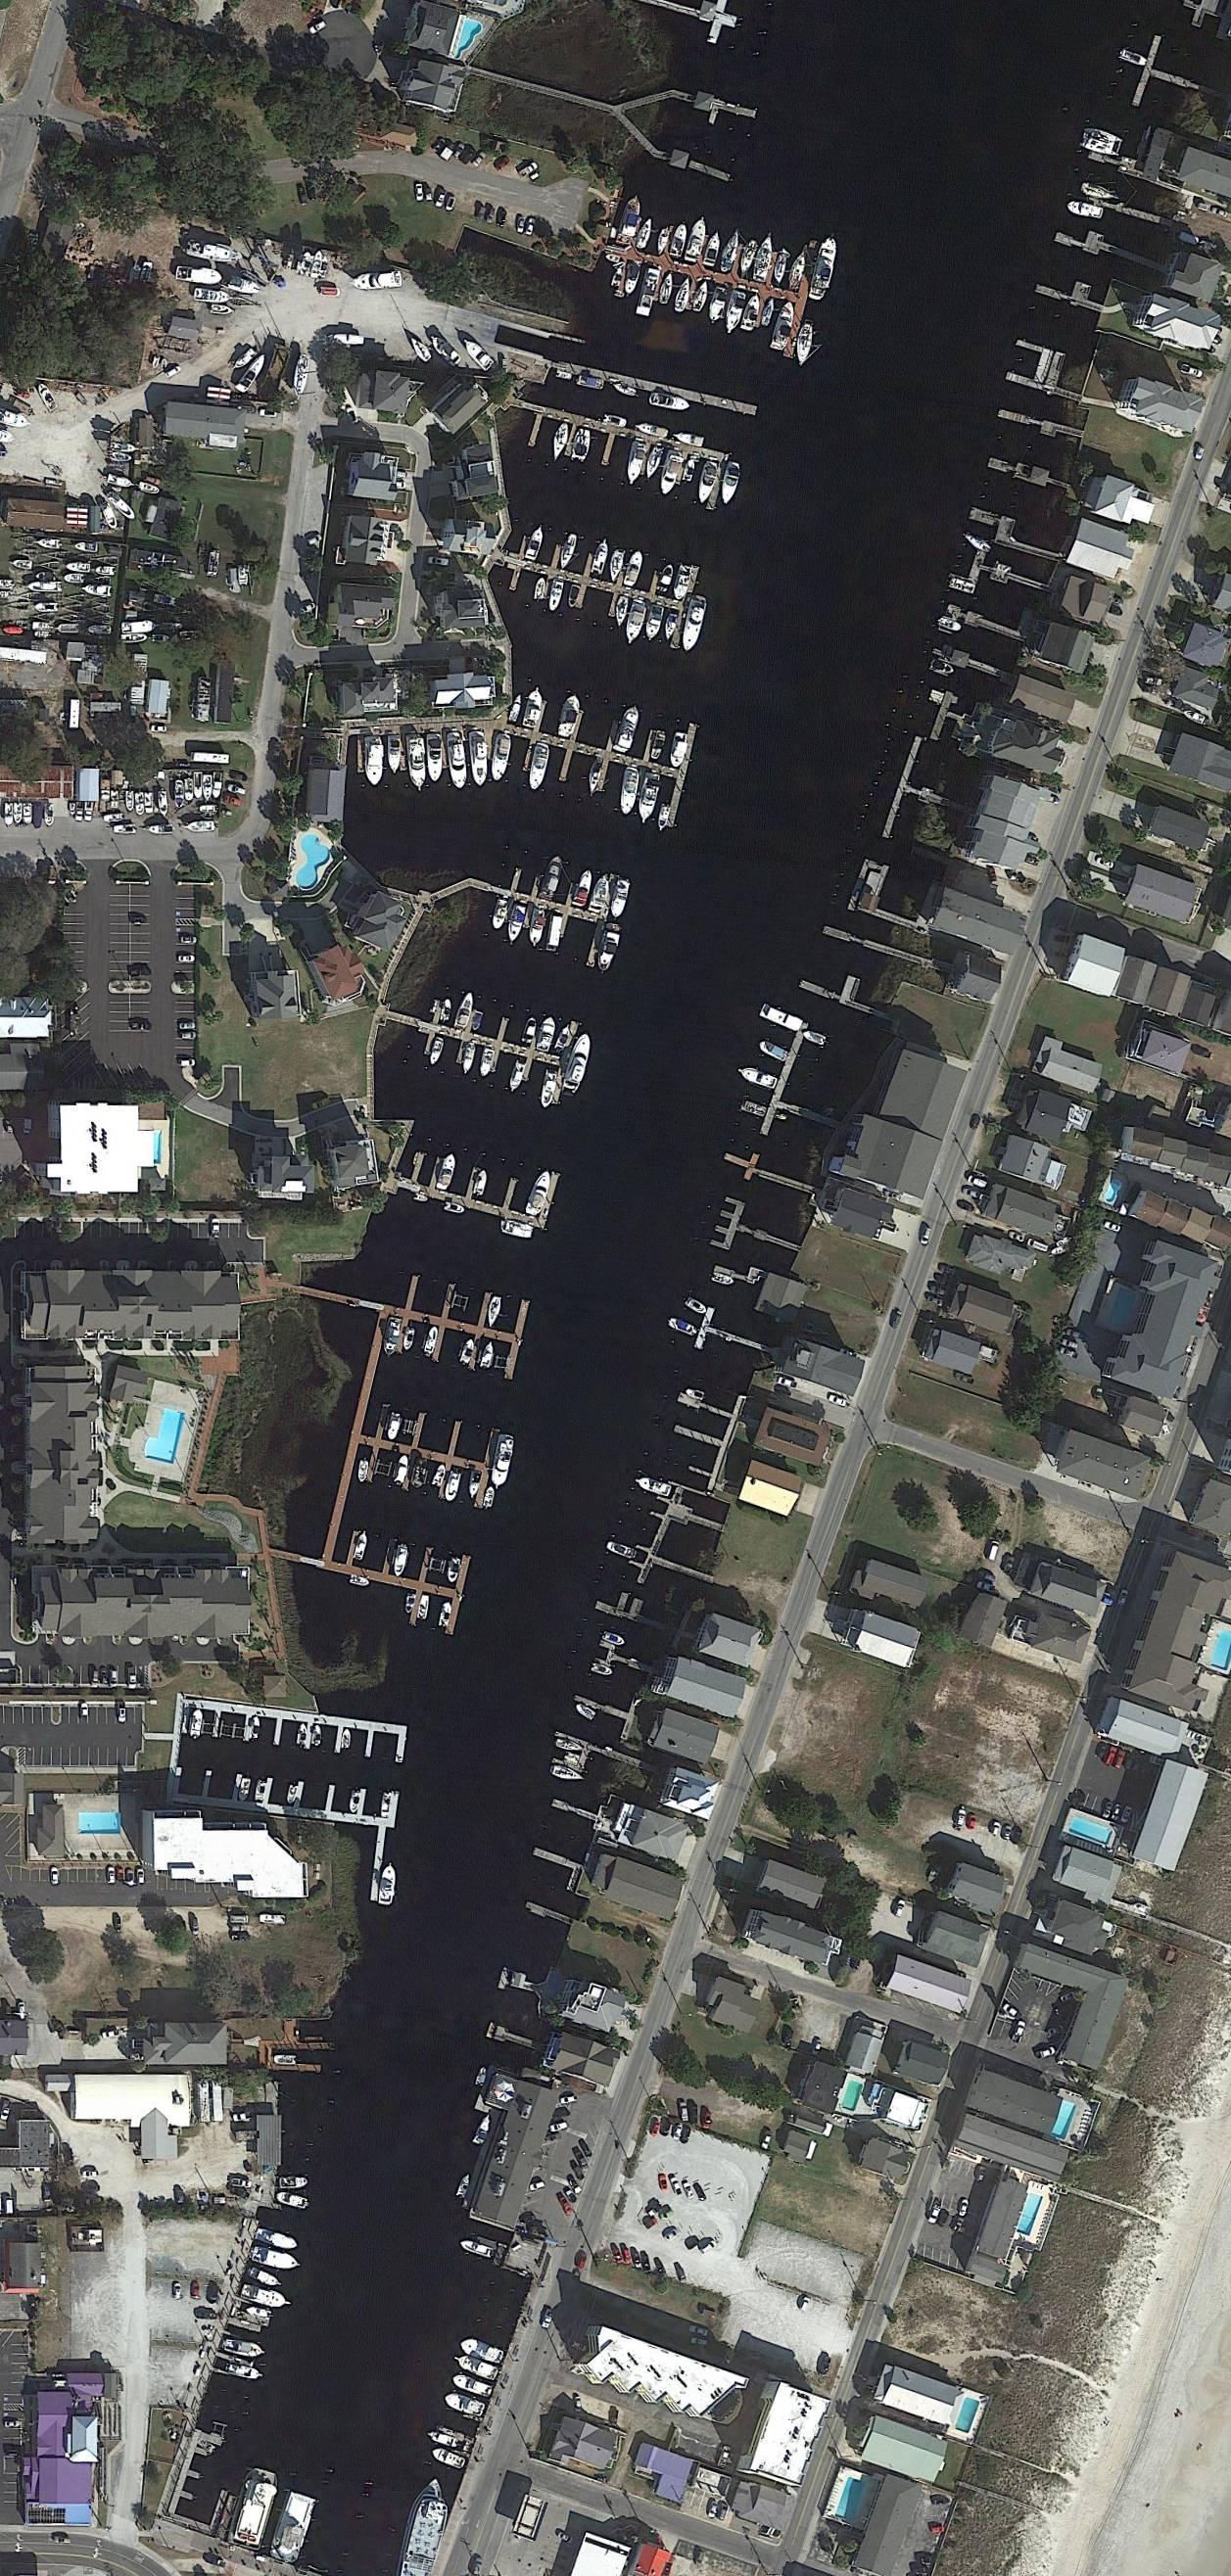harbor: (462, 39, 759, 186), (588, 189, 823, 360), (491, 677, 698, 828), (505, 396, 731, 513), (496, 521, 700, 651), (404, 981, 582, 1104), (452, 838, 620, 966), (317, 1525, 472, 1635), (350, 1398, 501, 1508), (381, 1270, 531, 1380), (202, 2218, 299, 2380), (399, 1134, 560, 1230), (182, 1697, 408, 1763), (171, 1766, 399, 1830), (643, 1372, 748, 1497), (549, 358, 758, 417), (1131, 34, 1229, 141), (590, 1574, 707, 1656), (355, 720, 496, 772), (846, 856, 938, 935), (542, 1727, 652, 1792), (948, 540, 1052, 610), (694, 1304, 784, 1378), (623, 1480, 687, 1584), (1053, 220, 1162, 278), (758, 1020, 810, 1139), (718, 1142, 820, 1203), (966, 506, 1070, 563), (166, 2428, 225, 2527), (1004, 338, 1095, 402), (799, 961, 892, 1022), (881, 734, 924, 841), (823, 925, 922, 966), (1088, 146, 1173, 191), (986, 453, 1072, 495), (945, 603, 1024, 644), (1035, 271, 1108, 315), (1085, 194, 1172, 230), (998, 409, 1085, 445), (932, 642, 1007, 683), (524, 1845, 585, 1894), (930, 690, 978, 751), (592, 1640, 656, 1682), (486, 2021, 551, 2058), (708, 1196, 748, 1252), (265, 2040, 334, 2070), (713, 1253, 769, 1290), (498, 1965, 549, 2001), (574, 1692, 631, 1722), (524, 1899, 575, 1927), (370, 1825, 388, 1901), (551, 1797, 598, 1824), (470, 2236, 508, 2267)
ship: (805, 233, 841, 306), (560, 1032, 593, 1097), (675, 593, 710, 655), (186, 237, 247, 266), (486, 1434, 518, 1490), (233, 350, 270, 396), (523, 1166, 554, 1219), (240, 2282, 291, 2313), (769, 299, 797, 353), (593, 922, 621, 976), (524, 741, 554, 792), (459, 2334, 506, 2366), (634, 772, 662, 825), (620, 598, 649, 647), (554, 695, 585, 741), (104, 486, 141, 524), (460, 333, 496, 373), (615, 195, 643, 246), (251, 2246, 302, 2274), (486, 733, 514, 784), (467, 731, 491, 789), (611, 706, 641, 754), (445, 731, 468, 792), (736, 1061, 781, 1092), (656, 450, 684, 498), (537, 854, 565, 902), (615, 767, 643, 815), (427, 330, 463, 366), (217, 271, 263, 299), (692, 460, 720, 506), (454, 2354, 500, 2382), (406, 734, 427, 793), (442, 2390, 486, 2418), (684, 217, 708, 266), (176, 263, 225, 287), (722, 289, 748, 335), (519, 687, 546, 733), (623, 440, 649, 486), (253, 2226, 299, 2252), (350, 269, 406, 291), (452, 2371, 495, 2399), (717, 462, 743, 506), (1080, 179, 1121, 207), (786, 246, 810, 292), (718, 230, 743, 274), (753, 235, 774, 284), (547, 422, 572, 465), (587, 872, 611, 915), (363, 736, 383, 789), (534, 1014, 559, 1055), (649, 391, 692, 414), (380, 1316, 403, 1359), (643, 605, 667, 644), (621, 550, 646, 590), (570, 867, 595, 907), (551, 1761, 587, 1787), (224, 2338, 268, 2359), (740, 292, 763, 333), (526, 907, 549, 948), (505, 904, 528, 945), (583, 757, 606, 798), (291, 353, 311, 401), (634, 1474, 672, 1498), (707, 286, 730, 325), (1065, 199, 1104, 222), (454, 992, 477, 1032), (436, 1152, 459, 1191), (431, 2446, 467, 2471), (248, 2267, 284, 2292), (192, 286, 233, 307), (537, 1068, 559, 1109), (608, 879, 629, 920), (376, 1863, 396, 1907), (671, 278, 694, 315), (671, 565, 694, 603), (33, 379, 59, 412), (225, 2361, 265, 2382), (426, 733, 442, 784), (689, 279, 712, 315), (556, 534, 579, 570), (523, 526, 546, 562), (273, 2188, 309, 2211), (228, 345, 258, 373), (406, 333, 432, 365), (738, 238, 758, 279), (621, 261, 643, 299), (546, 578, 567, 616), (667, 733, 689, 771), (795, 322, 814, 366), (608, 595, 631, 629), (669, 222, 690, 258), (634, 215, 656, 251), (643, 445, 664, 481), (758, 1038, 789, 1063), (460, 2238, 493, 2261), (590, 540, 610, 578), (508, 1058, 529, 1092), (391, 1452, 413, 1487), (554, 1735, 585, 1758), (657, 271, 677, 307), (703, 232, 723, 268), (633, 421, 669, 440), (606, 549, 626, 585), (442, 1469, 463, 1502), (672, 430, 707, 450), (350, 1529, 371, 1561), (490, 899, 509, 931), (519, 1015, 539, 1048), (459, 1042, 478, 1074), (99, 501, 120, 531), (477, 1046, 496, 1078), (81, 582, 113, 600), (422, 1324, 440, 1357), (386, 734, 401, 774), (427, 1037, 447, 1066), (486, 1295, 503, 1329), (506, 693, 524, 724), (393, 1546, 409, 1579), (657, 563, 675, 593), (122, 619, 158, 634), (28, 578, 64, 593), (467, 1470, 485, 1500), (189, 1707, 205, 1738), (564, 583, 582, 611), (662, 614, 680, 642), (472, 1168, 490, 1196), (761, 297, 777, 327), (656, 803, 672, 833), (33, 536, 62, 552), (108, 471, 135, 490), (459, 1339, 477, 1365), (654, 228, 671, 256), (445, 1557, 462, 1585), (802, 1028, 827, 1046), (386, 1414, 403, 1441), (482, 1341, 496, 1368), (184, 820, 215, 833), (136, 481, 161, 498), (66, 560, 92, 575), (120, 632, 150, 646), (245, 2305, 271, 2320), (173, 780, 186, 808), (158, 789, 171, 816), (248, 1717, 263, 1741), (401, 1327, 416, 1352), (348, 1789, 362, 1815), (534, 577, 547, 601), (43, 803, 56, 828), (3, 802, 16, 826), (145, 823, 173, 835), (74, 542, 99, 554), (13, 802, 25, 826), (202, 777, 212, 803), (35, 601, 59, 611), (194, 772, 202, 800), (135, 792, 145, 815), (125, 790, 135, 813), (23, 803, 33, 825), (186, 779, 194, 802)
swimming pool: (288, 831, 335, 894), (141, 1405, 187, 1465), (835, 2476, 871, 2523), (454, 18, 485, 64), (1067, 1817, 1113, 1847), (1014, 2192, 1044, 2236), (1049, 2098, 1078, 2141), (955, 2397, 980, 2435), (79, 1812, 122, 1833), (841, 2080, 864, 2113)
